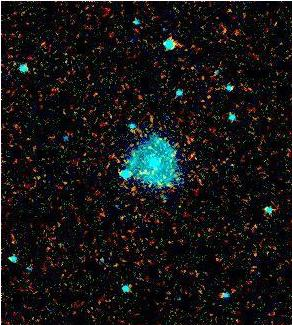star: (131, 153, 161, 183)
